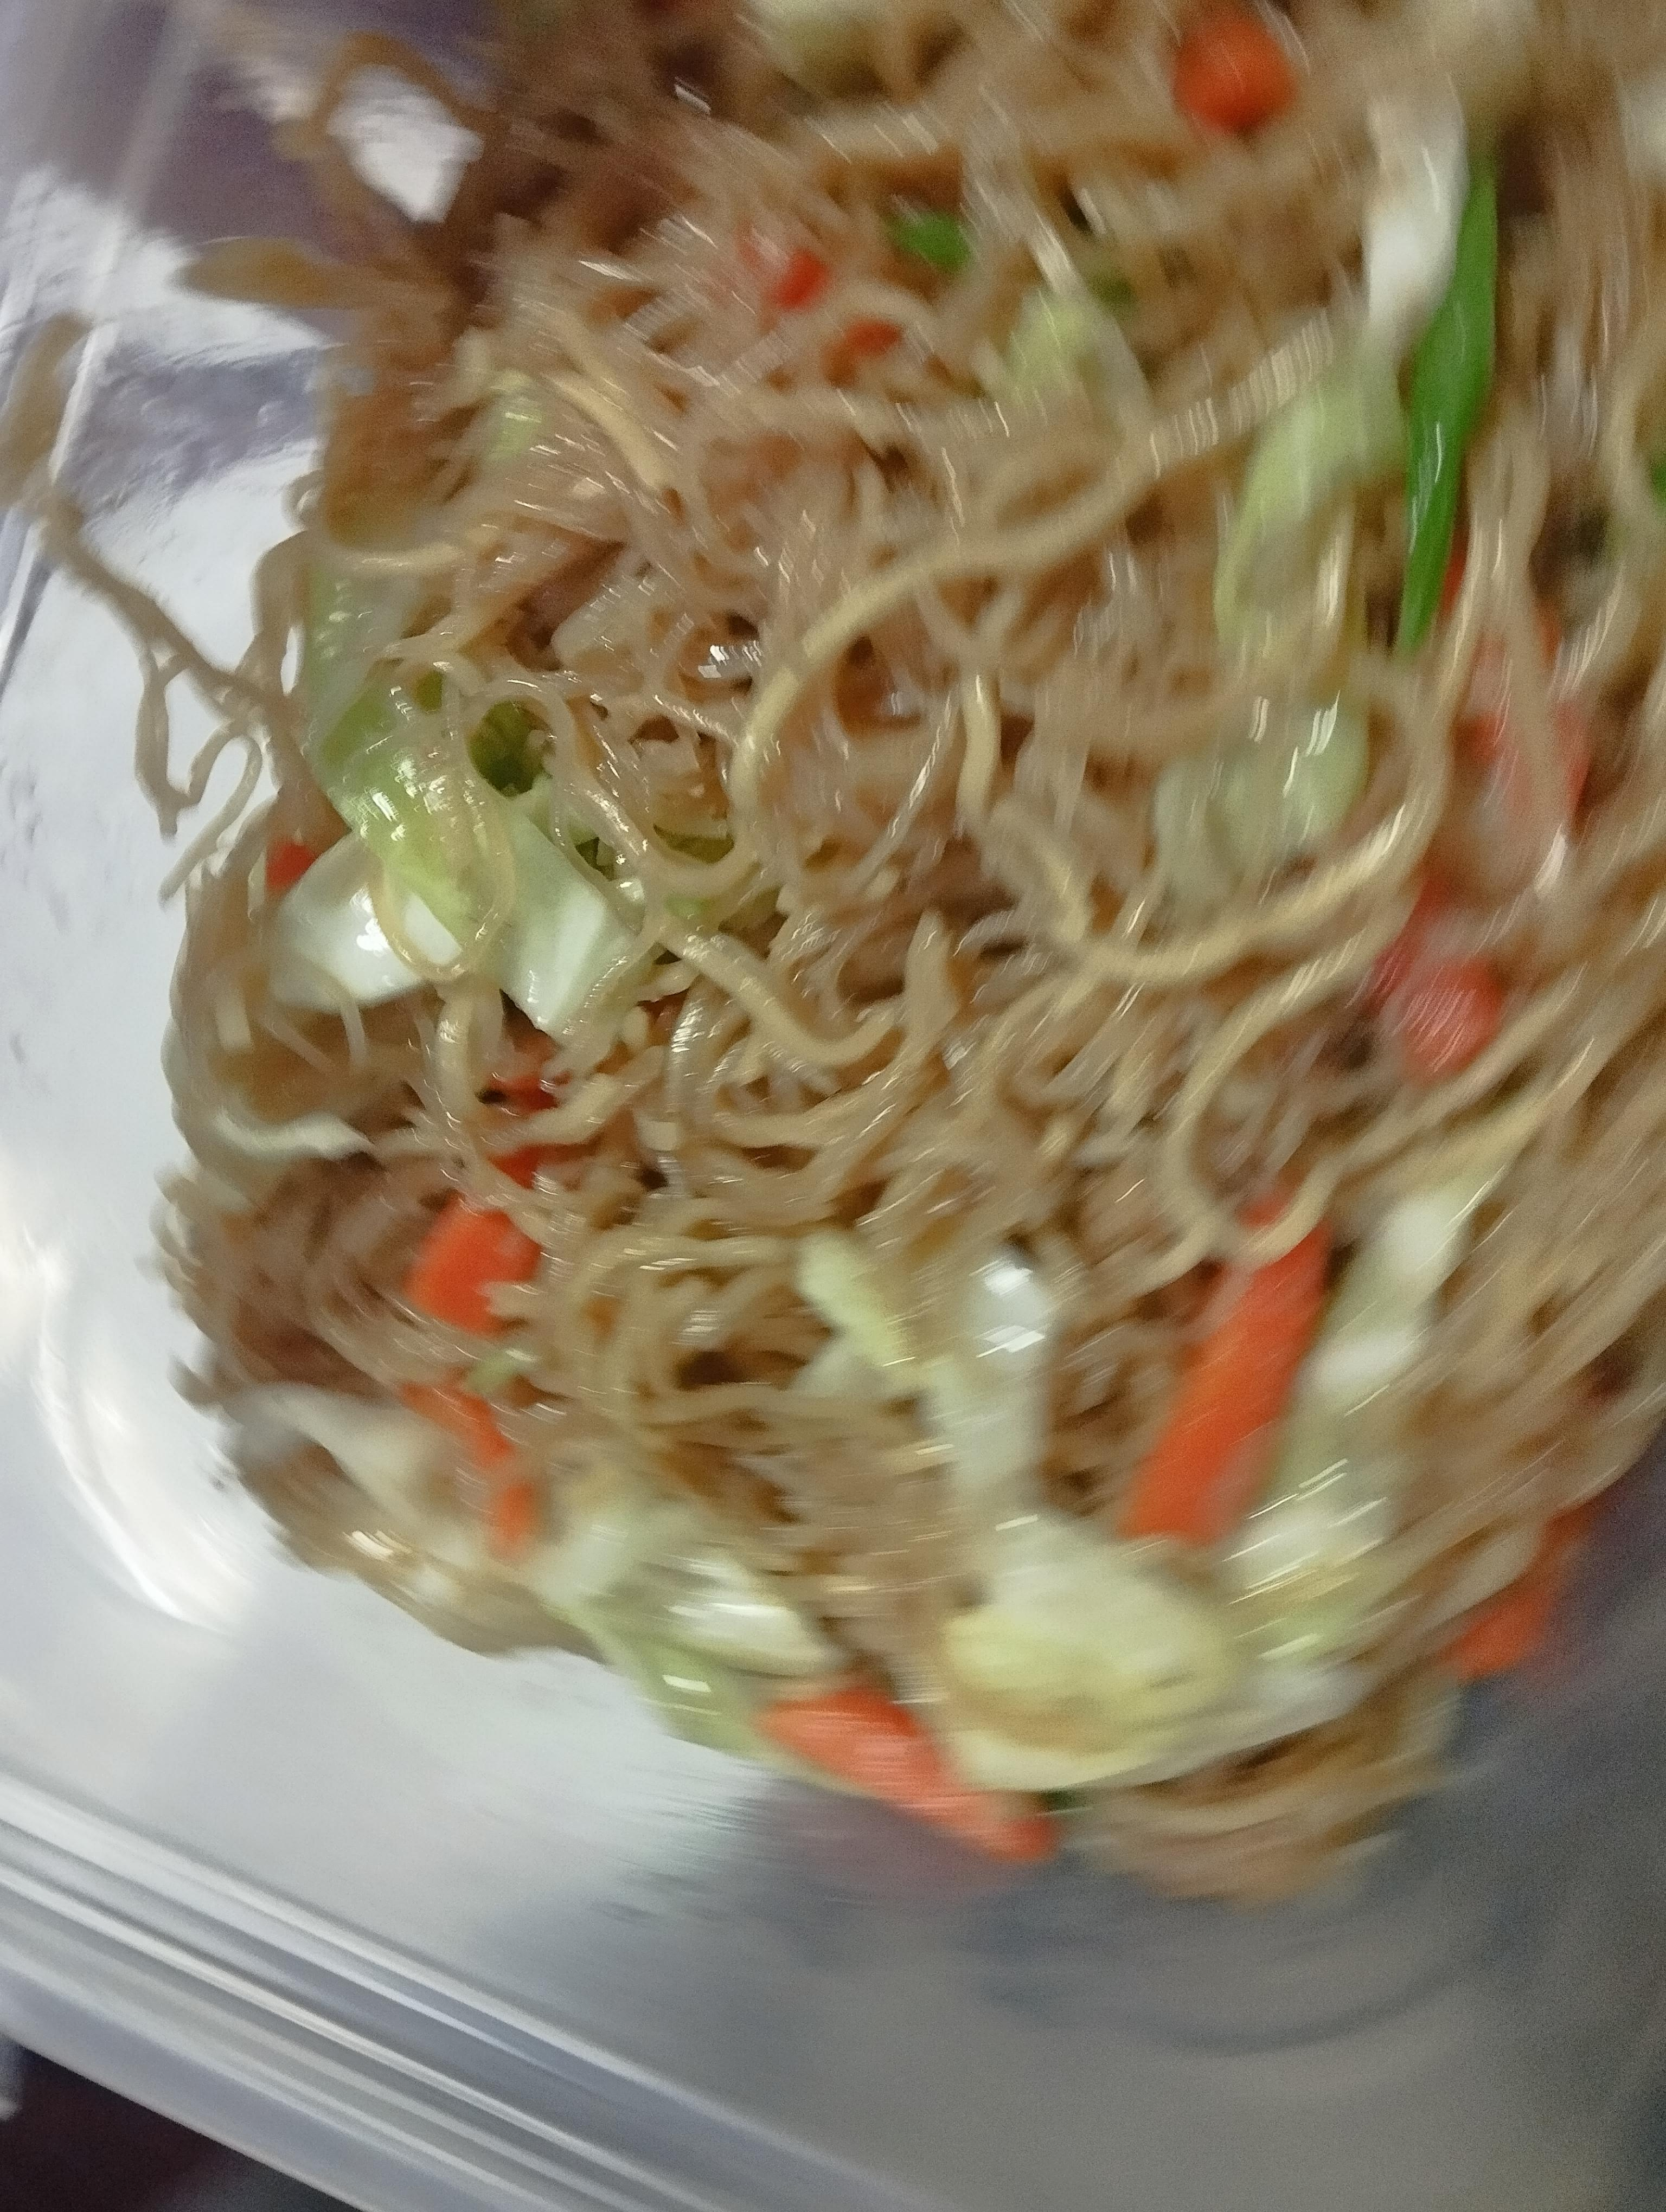pancit bihon: (187, 0, 1649, 1918)
